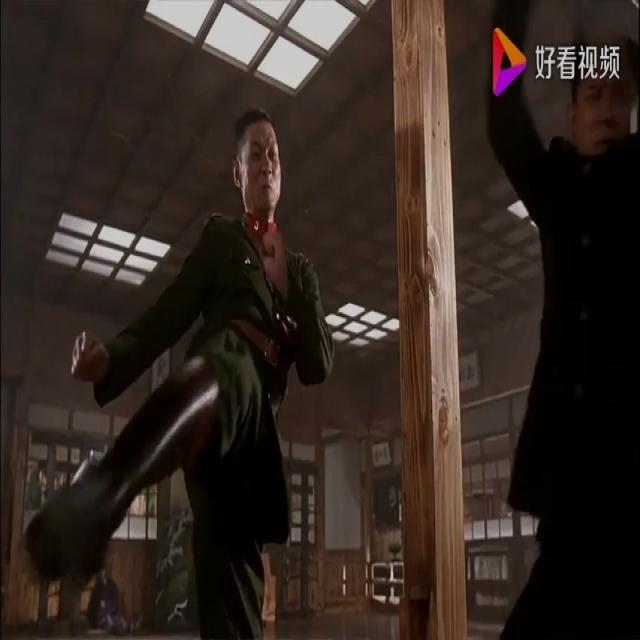fight: (4, 88, 362, 639), (478, 8, 639, 639)
